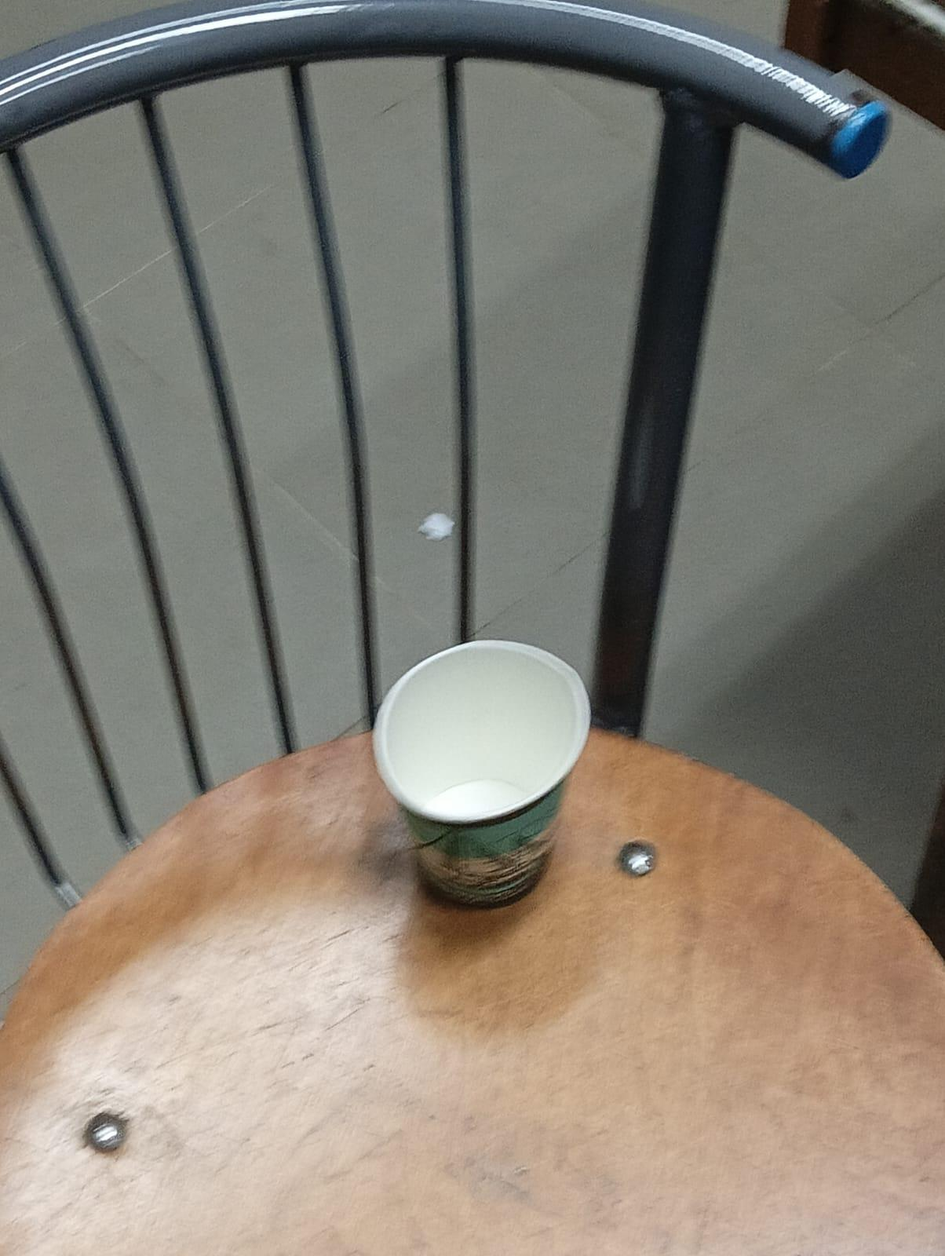cup: (373, 641, 589, 906), (373, 640, 592, 824)
